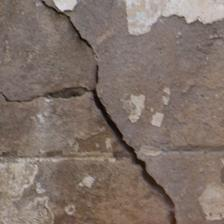Crack: (48, 0, 122, 94), (4, 21, 94, 78), (0, 81, 87, 138)
